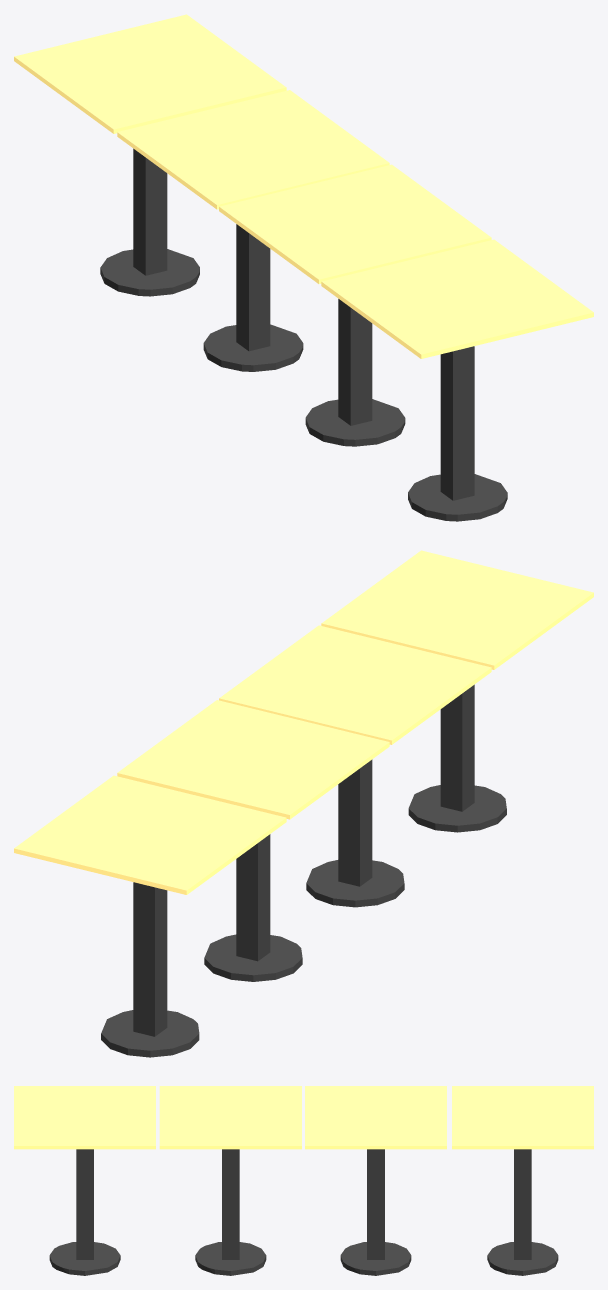
3 views of the same model, one above another, from view 1: azimuth 30°, elevation 25°; view 2: azimuth 150°, elevation 25°; view 3: azimuth 270°, elevation 25° (orthographic). The views are drawn at different scales.
Parts seen in each view (by area): view 1: Table1, Table1_003, Table1_001, Table1_002; view 2: Table1_003, Table1_002, Table1, Table1_001; view 3: Table1_001, Table1_002, Table1_003, Table1.
Boxes of the visible parts, <box> form: Table1: <box>321,239,593,521</box>; Table1_003: <box>14,14,286,296</box>; Table1_001: <box>219,164,491,446</box>; Table1_002: <box>117,90,389,371</box>; Table1_003: <box>14,775,286,1057</box>; Table1_002: <box>117,700,389,981</box>; Table1: <box>321,550,593,832</box>; Table1_001: <box>219,625,491,907</box>; Table1_001: <box>159,1086,301,1275</box>; Table1_002: <box>305,1086,446,1275</box>; Table1_003: <box>452,1086,593,1275</box>; Table1: <box>14,1086,155,1275</box>.
Size of the model in its own units: 0.8 by 3.27 by 0.9.
